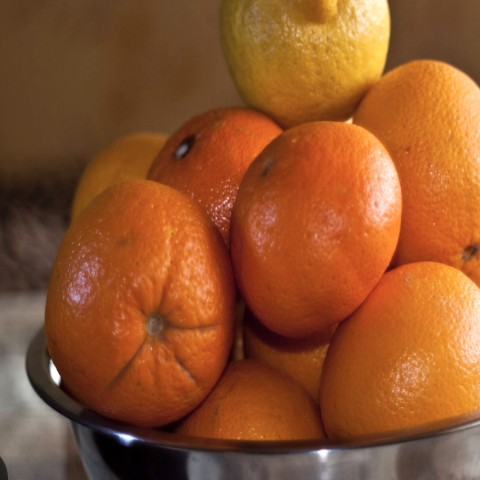orange: (35, 172, 240, 445), (213, 78, 406, 348)
